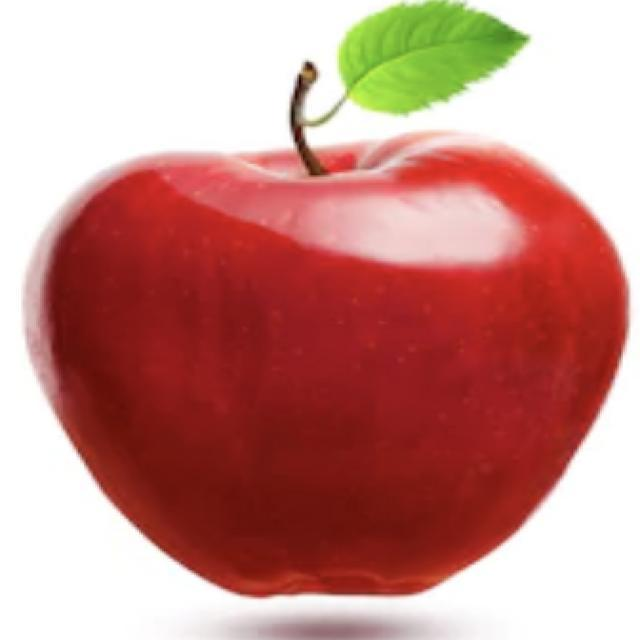Fresh Apple: (36, 133, 636, 607)
